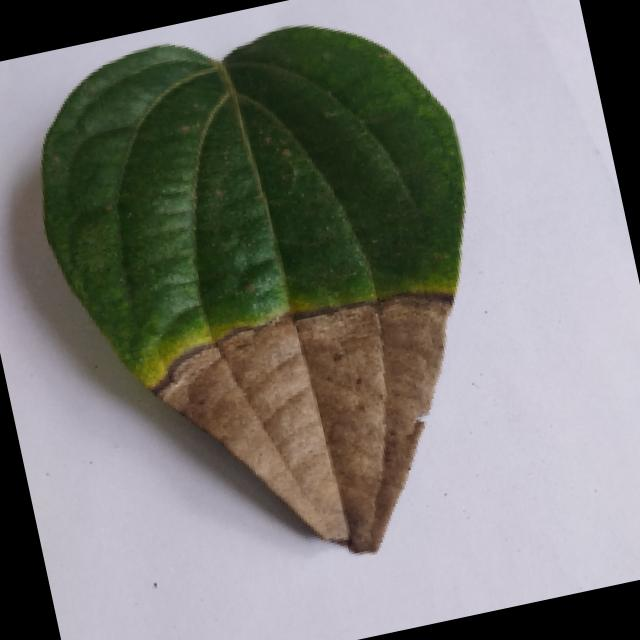footrot: (14, 0, 535, 603)
